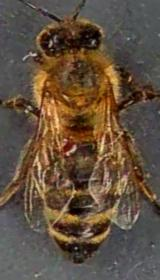varroa_mite: (56, 135, 80, 158)
